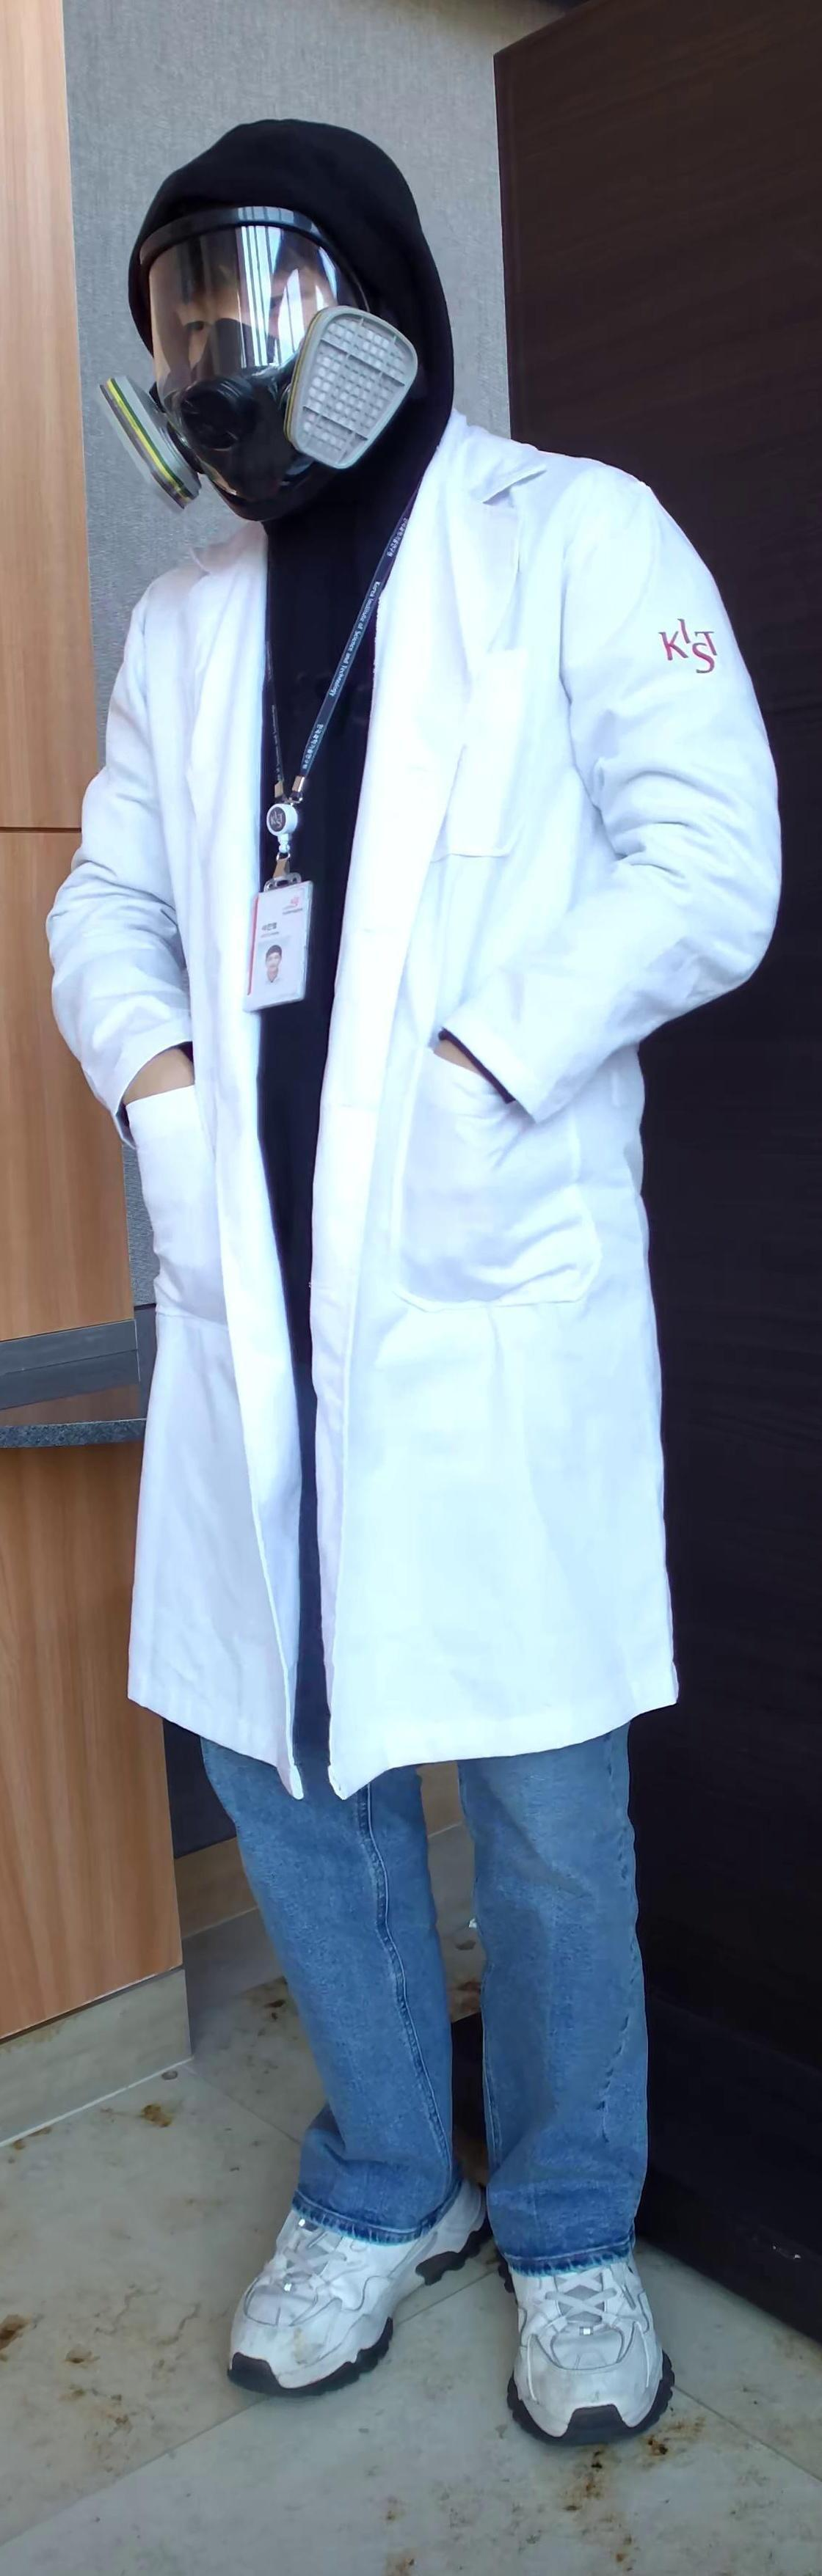lab_coat: (23, 496, 792, 1727)
